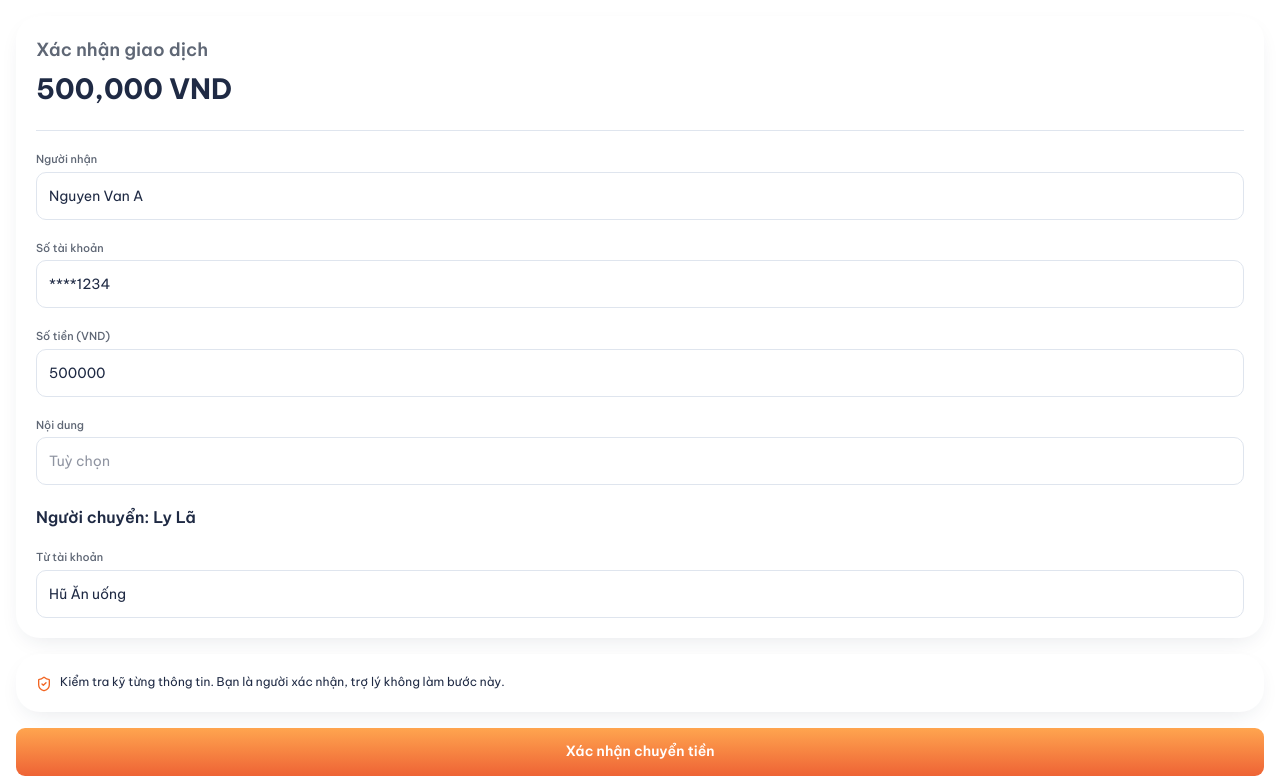
Scenario: TransferConfirm — always create + categorize › 0-category jar records type:transfer (no phantom expense, F#1)
(page scrolled)
Click the button "Xác nhận chuyển tiền" at [640, 752], box [16, 728, 1264, 776]
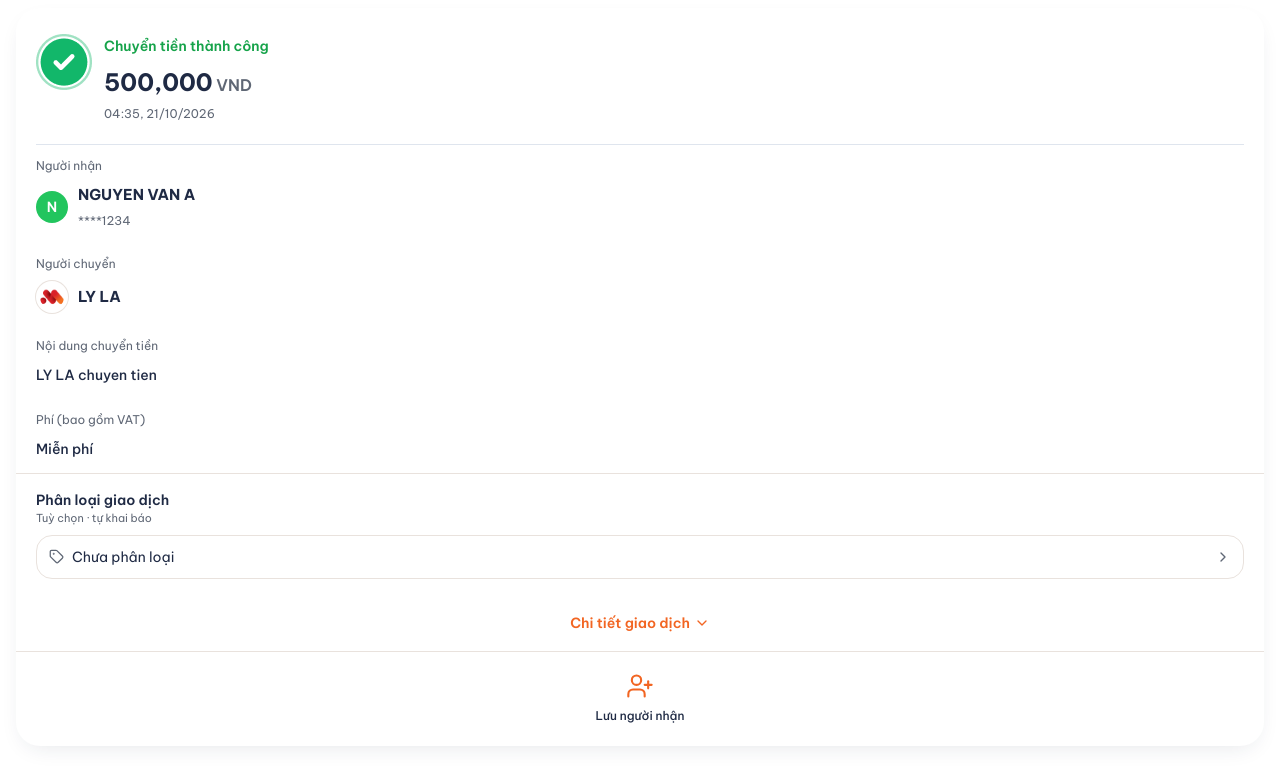
Check: the text "Chuyển tiền thành công" is shown, box [104, 32, 269, 60]
